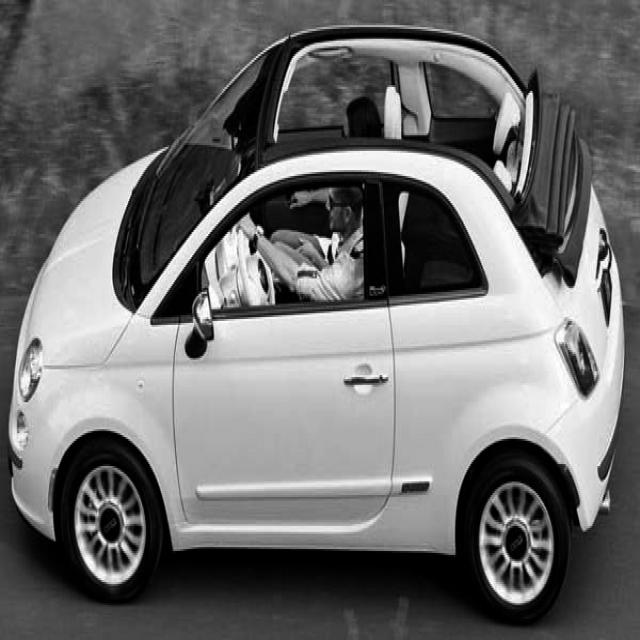car: (6, 21, 625, 623)
